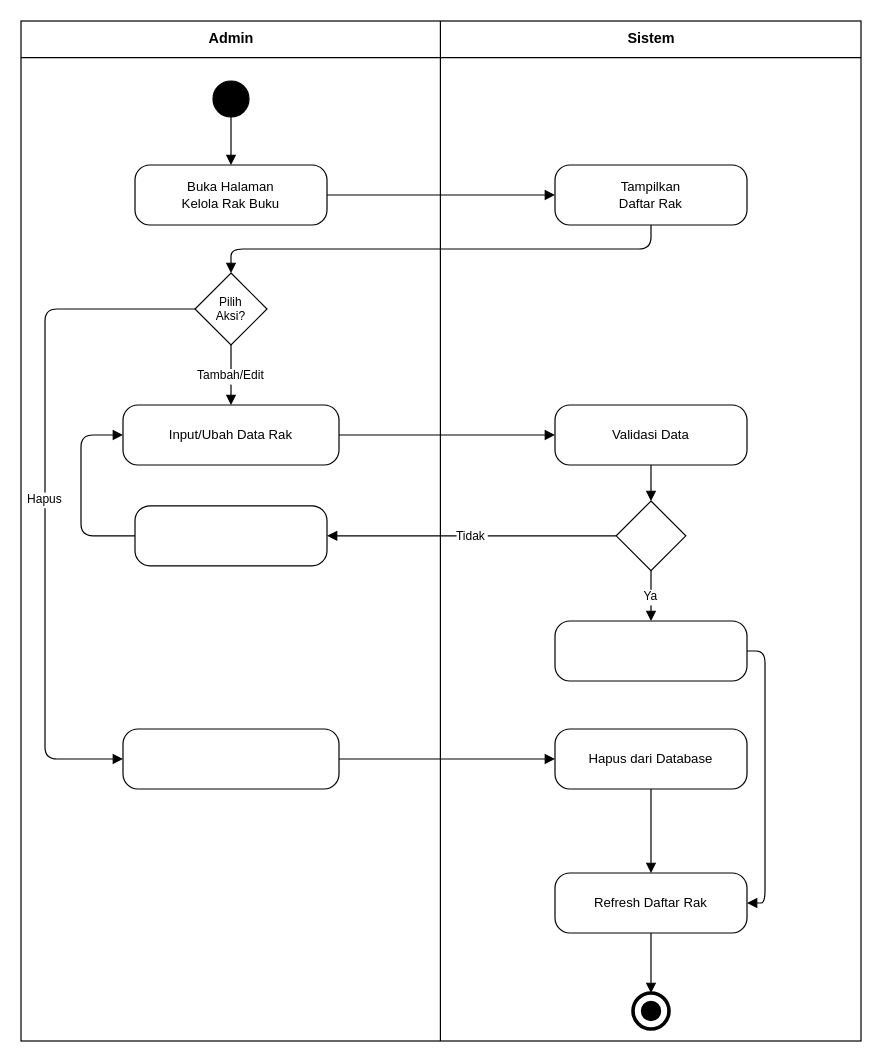
Image size: 882x1062. Some labels were removed from this diagram. The shapes that lost their labels are listed below. From the top down, each one's box as (x1, y1, x2, y2) in pixels, then its label:
(134, 505, 327, 566): Tampilkan Pesan Error
(615, 500, 686, 571): Valid?
(554, 620, 747, 681): Simpan ke Database
(122, 728, 339, 789): Pilih Rak & Konfirmasi Hapus
